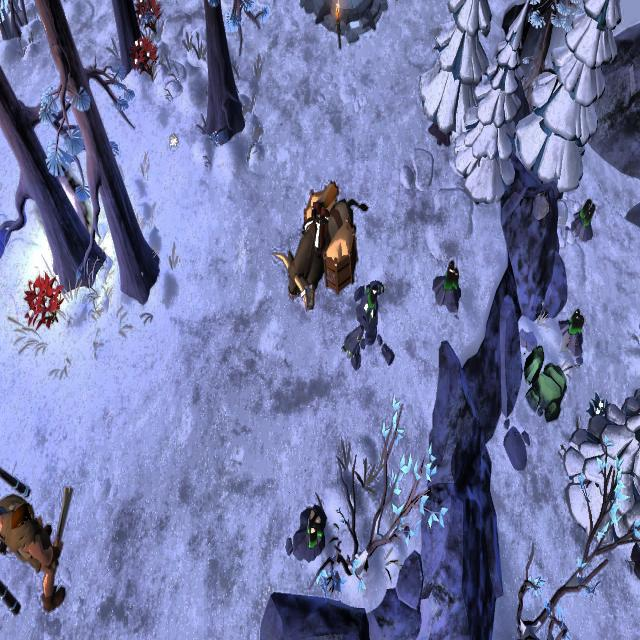fiber_t5: (21, 273, 63, 331), (130, 39, 159, 80), (134, 0, 164, 32)
ore_t3: (442, 256, 462, 298), (306, 502, 322, 548), (568, 303, 585, 338), (580, 194, 596, 231)
rock_t3: (520, 346, 566, 423)
